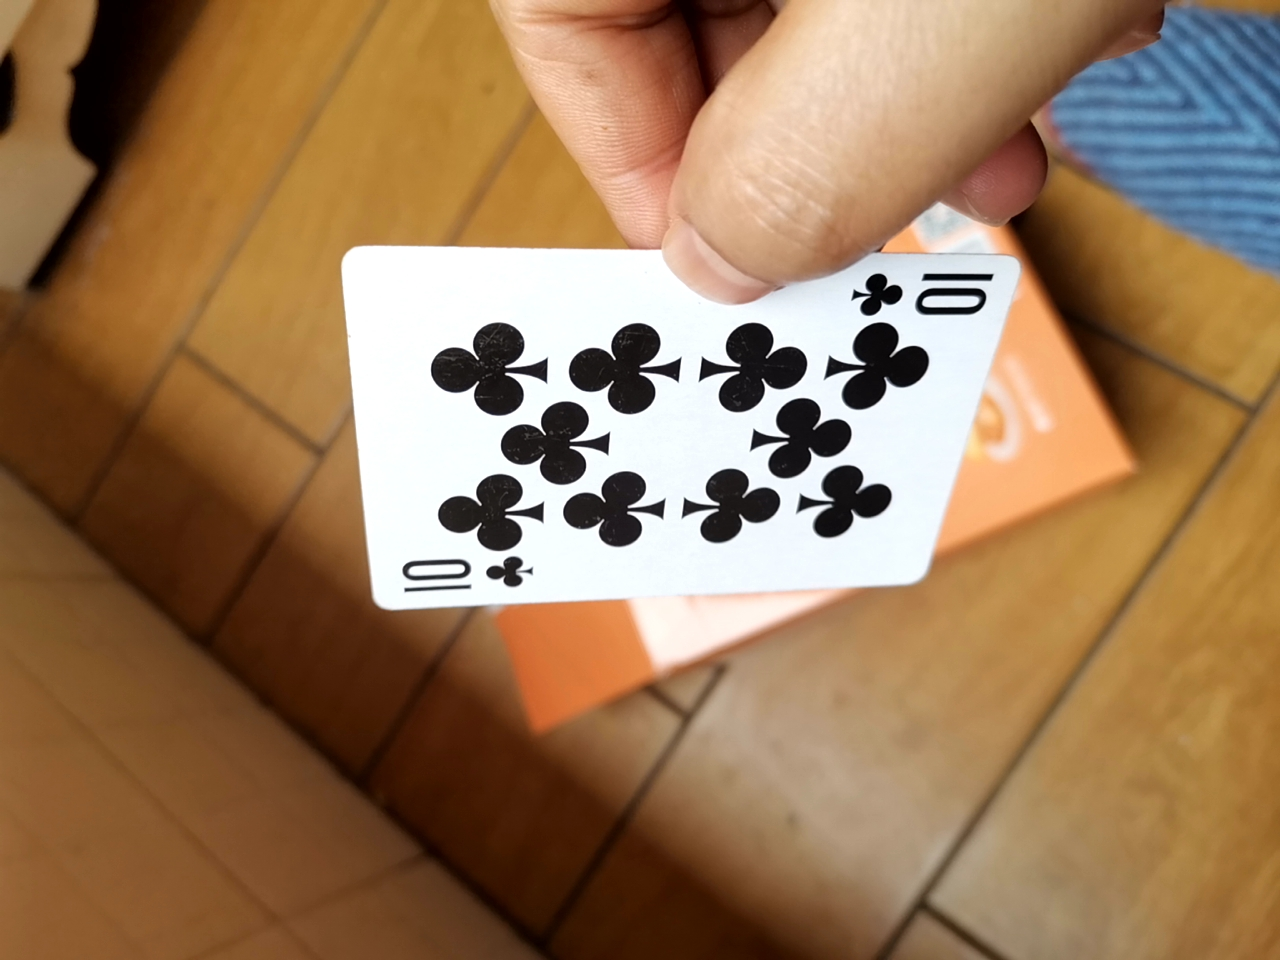mh 10: (322, 232, 1027, 622)
